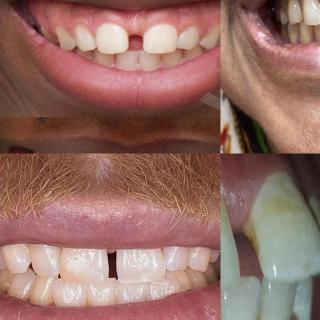cavities: (279, 0, 289, 20)
maligned: (48, 277, 86, 311), (146, 276, 182, 302)
plaque: (297, 5, 309, 22), (318, 3, 320, 21)
stains: (238, 187, 271, 265), (252, 308, 278, 320)
